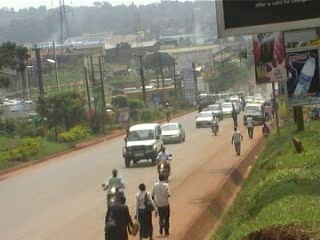Car: (119, 121, 166, 168), (162, 120, 187, 145), (195, 109, 215, 129), (205, 102, 224, 120), (219, 103, 235, 116), (231, 99, 242, 113)
Motorcycle: (101, 168, 128, 213), (155, 149, 174, 183), (209, 116, 222, 137)
